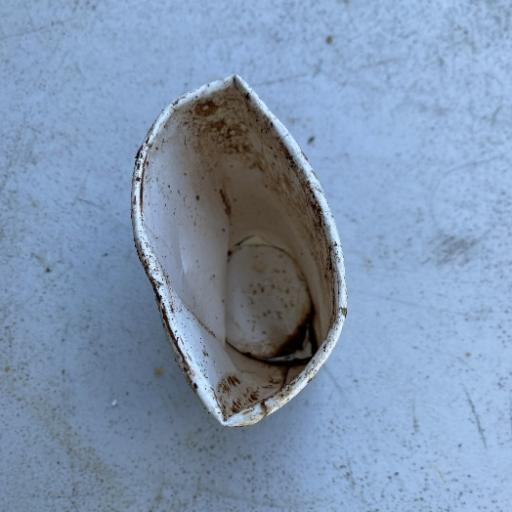Cardboard: (128, 72, 349, 429)
